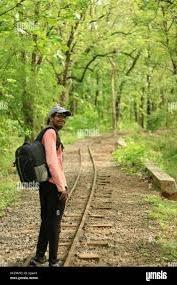Human: (19, 104, 77, 267)
